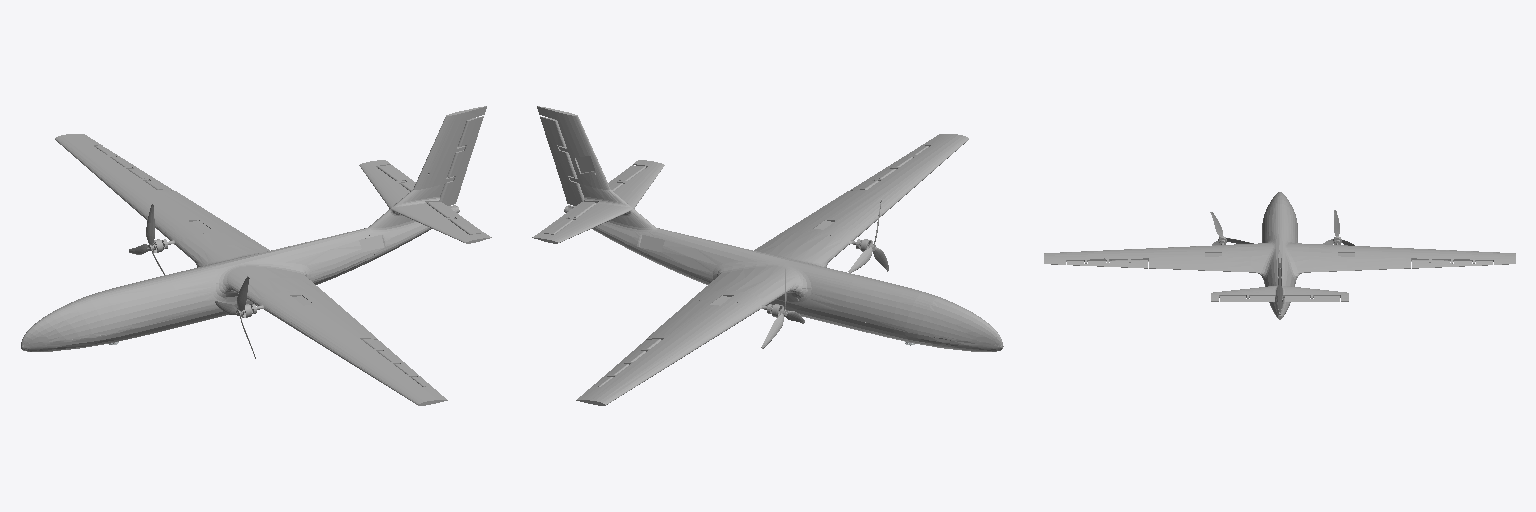
robot.urdf — FDR_UAV_gazebo-2.SLDASM:
<?xml version="1.0" encoding="utf-8"?>
<!-- This URDF was automatically created by SolidWorks to URDF Exporter! Originally created by Stephen Brawner (brawner@gmail.com) 
     Commit Version: 1.6.0-4-g7f85cfe  Build Version: 1.6.7995.38578
     For more information, please see http://wiki.ros.org/sw_urdf_exporter -->
<robot
  name="FDR_UAV_gazebo-2.SLDASM">
  <link
    name="base_link">
    <inertial>
      <origin
        xyz="0.2545 0.025312 0.00019661"
        rpy="0 0 0" />
      <mass
        value="3.4121" />
      <inertia
        ixx="0.034703"
        ixy="-0.009068"
        ixz="1.9167E-06"
        iyy="0.082351"
        iyz="-1.7806E-05"
        izz="0.068248" />
    </inertial>
    <visual>
      <origin
        xyz="0 0 0"
        rpy="0 0 0" />
      <geometry>
        <mesh
          filename="package://FDR_UAV_gazebo-2.SLDASM/meshes/base_link.STL" />
      </geometry>
      <material
        name="">
        <color
          rgba="0.69804 0.69804 0.69804 1" />
      </material>
    </visual>
    <collision>
      <origin
        xyz="0 0 0"
        rpy="0 0 0" />
      <geometry>
        <mesh
          filename="package://FDR_UAV_gazebo-2.SLDASM/meshes/base_link.STL" />
      </geometry>
    </collision>
  </link>
  <link
    name="sag_aileron">
    <inertial>
      <origin
        xyz="0.014075 -0.0023023 -0.15877"
        rpy="0 0 0" />
      <mass
        value="0.11288" />
      <inertia
        ixx="0.0011028"
        ixy="2.091E-06"
        ixz="-3.0144E-05"
        iyy="0.0011173"
        iyz="-3.5851E-06"
        izz="1.6809E-05" />
    </inertial>
    <visual>
      <origin
        xyz="0 0 0"
        rpy="0 0 0" />
      <geometry>
        <mesh
          filename="package://FDR_UAV_gazebo-2.SLDASM/meshes/sag_aileron.STL" />
      </geometry>
      <material
        name="">
        <color
          rgba="0.69804 0.69804 0.69804 1" />
      </material>
    </visual>
    <collision>
      <origin
        xyz="0 0 0"
        rpy="0 0 0" />
      <geometry>
        <mesh
          filename="package://FDR_UAV_gazebo-2.SLDASM/meshes/sag_aileron.STL" />
      </geometry>
    </collision>
  </link>
  <joint
    name="sag_aileron"
    type="continuous">
    <origin
      xyz="0.15928 0.55495 0.0013862"
      rpy="1.5708 0.033337 -0.00017462" />
    <parent
      link="base_link" />
    <child
      link="sag_aileron" />
    <axis
      xyz="0 0.0052331 0.99999" />
  </joint>
  <link
    name="sol_aileron">
    <inertial>
      <origin
        xyz="0.014078 -0.0023022 0.15867"
        rpy="0 0 0" />
      <mass
        value="0.11289" />
      <inertia
        ixx="0.0011028"
        ixy="2.0917E-06"
        ixz="3.0148E-05"
        iyy="0.0011173"
        iyz="3.5869E-06"
        izz="1.6818E-05" />
    </inertial>
    <visual>
      <origin
        xyz="0 0 0"
        rpy="0 0 0" />
      <geometry>
        <mesh
          filename="package://FDR_UAV_gazebo-2.SLDASM/meshes/sol_aileron.STL" />
      </geometry>
      <material
        name="">
        <color
          rgba="0.69804 0.69804 0.69804 1" />
      </material>
    </visual>
    <collision>
      <origin
        xyz="0 0 0"
        rpy="0 0 0" />
      <geometry>
        <mesh
          filename="package://FDR_UAV_gazebo-2.SLDASM/meshes/sol_aileron.STL" />
      </geometry>
    </collision>
  </link>
  <joint
    name="sol_aileron"
    type="continuous">
    <origin
      xyz="0.15928 -0.55506 0.0013857"
      rpy="1.5708 0.016908 8.854E-05" />
    <parent
      link="base_link" />
    <child
      link="sol_aileron" />
    <axis
      xyz="0 0.0052352 -0.99999" />
  </joint>
  <link
    name="elevator">
    <inertial>
      <origin
        xyz="0.013115 -0.00065145 3.6133E-07"
        rpy="0 0 0" />
      <mass
        value="0.15719" />
      <inertia
        ixx="0.0010775"
        ixy="1.9272E-07"
        ixz="-3.3579E-08"
        iyy="0.0010976"
        iyz="2.2862E-08"
        izz="2.1704E-05" />
    </inertial>
    <visual>
      <origin
        xyz="0 0 0"
        rpy="0 0 0" />
      <geometry>
        <mesh
          filename="package://FDR_UAV_gazebo-2.SLDASM/meshes/elevator.STL" />
      </geometry>
      <material
        name="">
        <color
          rgba="0.69804 0.69804 0.69804 1" />
      </material>
    </visual>
    <collision>
      <origin
        xyz="0 0 0"
        rpy="0 0 0" />
      <geometry>
        <mesh
          filename="package://FDR_UAV_gazebo-2.SLDASM/meshes/elevator.STL" />
      </geometry>
    </collision>
  </link>
  <joint
    name="elevator"
    type="continuous">
    <origin
      xyz="0.69425 0 0.079992"
      rpy="1.5708 0.050132 0" />
    <parent
      link="base_link" />
    <child
      link="elevator" />
    <axis
      xyz="0 0 1" />
  </joint>
  <link
    name="rudder">
    <inertial>
      <origin
        xyz="0.06837 0.13046 -6.8489E-09"
        rpy="0 0 0" />
      <mass
        value="0.12946" />
      <inertia
        ixx="0.00071269"
        ixy="-0.00028213"
        ixz="4.2775E-11"
        iyy="0.00014319"
        iyz="-2.8921E-11"
        izz="0.00085371" />
    </inertial>
    <visual>
      <origin
        xyz="0 0 0"
        rpy="0 0 0" />
      <geometry>
        <mesh
          filename="package://FDR_UAV_gazebo-2.SLDASM/meshes/rudder.STL" />
      </geometry>
      <material
        name="">
        <color
          rgba="0.69804 0.69804 0.69804 1" />
      </material>
    </visual>
    <collision>
      <origin
        xyz="0 0 0"
        rpy="0 0 0" />
      <geometry>
        <mesh
          filename="package://FDR_UAV_gazebo-2.SLDASM/meshes/rudder.STL" />
      </geometry>
    </collision>
  </link>
  <joint
    name="rudder"
    type="continuous">
    <origin
      xyz="0.72951 0 0.033587"
      rpy="1.5773 -5.2572E-05 0.016132" />
    <parent
      link="base_link" />
    <child
      link="rudder" />
    <axis
      xyz="0.37461 0.92718 0" />
  </joint>
  <link
    name="pervane1">
    <inertial>
      <origin
        xyz="-2.2149E-06 -4.4004E-06 0.0092885"
        rpy="0 0 0" />
      <mass
        value="0.031881" />
      <inertia
        ixx="6.4806E-05"
        ixy="1.1499E-09"
        ixz="5.4255E-10"
        iyy="6.4817E-05"
        iyz="-9.6381E-10"
        izz="0.00012893" />
    </inertial>
    <visual>
      <origin
        xyz="0 0 0"
        rpy="0 0 0" />
      <geometry>
        <mesh
          filename="package://FDR_UAV_gazebo-2.SLDASM/meshes/pervane1.STL" />
      </geometry>
      <material
        name="">
        <color
          rgba="0.69804 0.69804 0.69804 1" />
      </material>
    </visual>
    <collision>
      <origin
        xyz="0 0 0"
        rpy="0 0 0" />
      <geometry>
        <mesh
          filename="package://FDR_UAV_gazebo-2.SLDASM/meshes/pervane1.STL" />
      </geometry>
    </collision>
  </link>
  <joint
    name="pervane1"
    type="continuous">
    <origin
      xyz="-0.04778 -0.25 0.01"
      rpy="1.5708 0.34264 -1.5708" />
    <parent
      link="base_link" />
    <child
      link="pervane1" />
    <axis
      xyz="0 0 1" />
  </joint>
  <link
    name="pervane2">
    <inertial>
      <origin
        xyz="-5.2561E-06 -5.3344E-06 0.0092888"
        rpy="0 0 0" />
      <mass
        value="0.031883" />
      <inertia
        ixx="6.4809E-05"
        ixy="-1.089E-08"
        ixz="-7.5157E-10"
        iyy="6.4831E-05"
        iyz="6.8501E-11"
        izz="0.00012894" />
    </inertial>
    <visual>
      <origin
        xyz="0 0 0"
        rpy="0 0 0" />
      <geometry>
        <mesh
          filename="package://FDR_UAV_gazebo-2.SLDASM/meshes/pervane2.STL" />
      </geometry>
      <material
        name="">
        <color
          rgba="0.69804 0.69804 0.69804 1" />
      </material>
    </visual>
    <collision>
      <origin
        xyz="0 0 0"
        rpy="0 0 0" />
      <geometry>
        <mesh
          filename="package://FDR_UAV_gazebo-2.SLDASM/meshes/pervane2.STL" />
      </geometry>
    </collision>
  </link>
  <joint
    name="pervane2"
    type="continuous">
    <origin
      xyz="-0.04778 0.25 0.01"
      rpy="1.5708 0.060213 -1.5708" />
    <parent
      link="base_link" />
    <child
      link="pervane2" />
    <axis
      xyz="0 0 1" />
  </joint>
  <link
    name="camera">
    <inertial>
      <origin
        xyz="1.3076E-05 -0.0033636 0.0069832"
        rpy="0 0 0" />
      <mass
        value="0.029915" />
      <inertia
        ixx="5.8035E-06"
        ixy="8.6837E-09"
        ixz="-3.9948E-10"
        iyy="3.5157E-06"
        iyz="6.6254E-08"
        izz="7.9152E-06" />
    </inertial>
    <visual>
      <origin
        xyz="0 0 0"
        rpy="0 0 0" />
      <geometry>
        <mesh
          filename="package://FDR_UAV_gazebo-2.SLDASM/meshes/camera.STL" />
      </geometry>
      <material
        name="">
        <color
          rgba="0.89804 0.91765 0.92941 1" />
      </material>
    </visual>
    <collision>
      <origin
        xyz="0 0 0"
        rpy="0 0 0" />
      <geometry>
        <mesh
          filename="package://FDR_UAV_gazebo-2.SLDASM/meshes/camera.STL" />
      </geometry>
    </collision>
  </link>
  <joint
    name="camera"
    type="fixed">
    <origin
      xyz="-0.32091 0.00078428 -0.105"
      rpy="3.1416 0 -1.5708" />
    <parent
      link="base_link" />
    <child
      link="camera" />
    <axis
      xyz="0 0 0" />
  </joint>
</robot>

--- Facts derived from the render (not from the file) ---
The picture shows the robot from 3 angles, left to right: view 1: azimuth 30°, elevation 25°; view 2: azimuth 150°, elevation 25°; view 3: azimuth 270°, elevation 25°; orthographic projection.
Robot: FDR_UAV_gazebo-2.SLDASM — 8 links, 7 joints (6 continuous, 1 fixed); root link base_link; default pose: every joint at zero.
Links seen in each view (by area): view 1: base_link, rudder, elevator, sol_aileron; view 2: base_link, rudder, elevator, sag_aileron, sol_aileron; view 3: base_link, elevator.
Link boxes in pixels (x1,y1,x2,y2): base_link: [21, 106, 491, 405]; rudder: [440, 109, 483, 205]; elevator: [378, 165, 483, 240]; sol_aileron: [363, 339, 431, 386]; base_link: [532, 106, 1003, 405]; rudder: [540, 109, 583, 205]; elevator: [540, 165, 645, 240]; sag_aileron: [592, 339, 660, 386]; sol_aileron: [850, 146, 928, 190]; base_link: [1044, 192, 1515, 319]; elevator: [1219, 296, 1340, 301].
Size in the robot's own frame: 1.52 by 2.05 by 0.4536 metres.
8 mesh visuals loaded from 8 distinct referenced files (8 binary STL).
